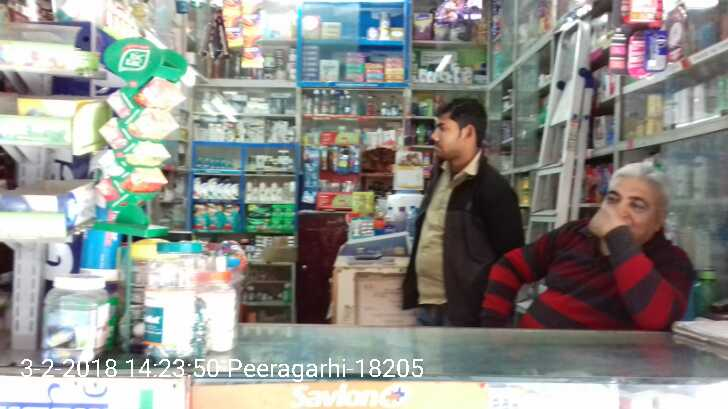vicks: (194, 153, 237, 169)
